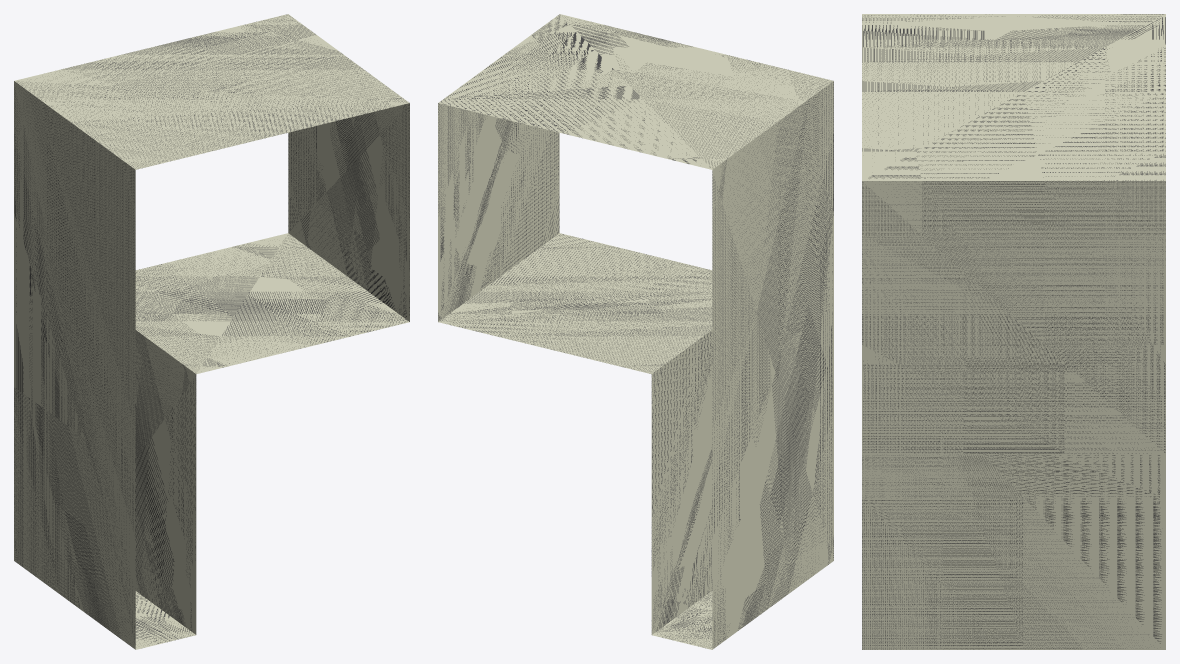
The model's file is original-6.obj.
The picture shows the model from 3 angles, left to right: view 1: azimuth 30°, elevation 25°; view 2: azimuth 150°, elevation 25°; view 3: azimuth 270°, elevation 25°; orthographic projection. The views are drawn at different scales.
Visible parts, largest first — view 1: mesh1/mesh1-geometry/material_0/component_2#mesh1-geometry; view 2: mesh1/mesh1-geometry/material_0/component_2#mesh1-geometry; view 3: mesh1/mesh1-geometry/material_0/component_2#mesh1-geometry.
Boxes of the visible parts, bbox=[...] form: mesh1/mesh1-geometry/material_0/component_2#mesh1-geometry: bbox=[14, 14, 409, 649]; mesh1/mesh1-geometry/material_0/component_2#mesh1-geometry: bbox=[438, 14, 833, 649]; mesh1/mesh1-geometry/material_0/component_2#mesh1-geometry: bbox=[862, 14, 1165, 649].
Size of the model in its own units: 0.0669 by 0.1119 by 0.0514.
